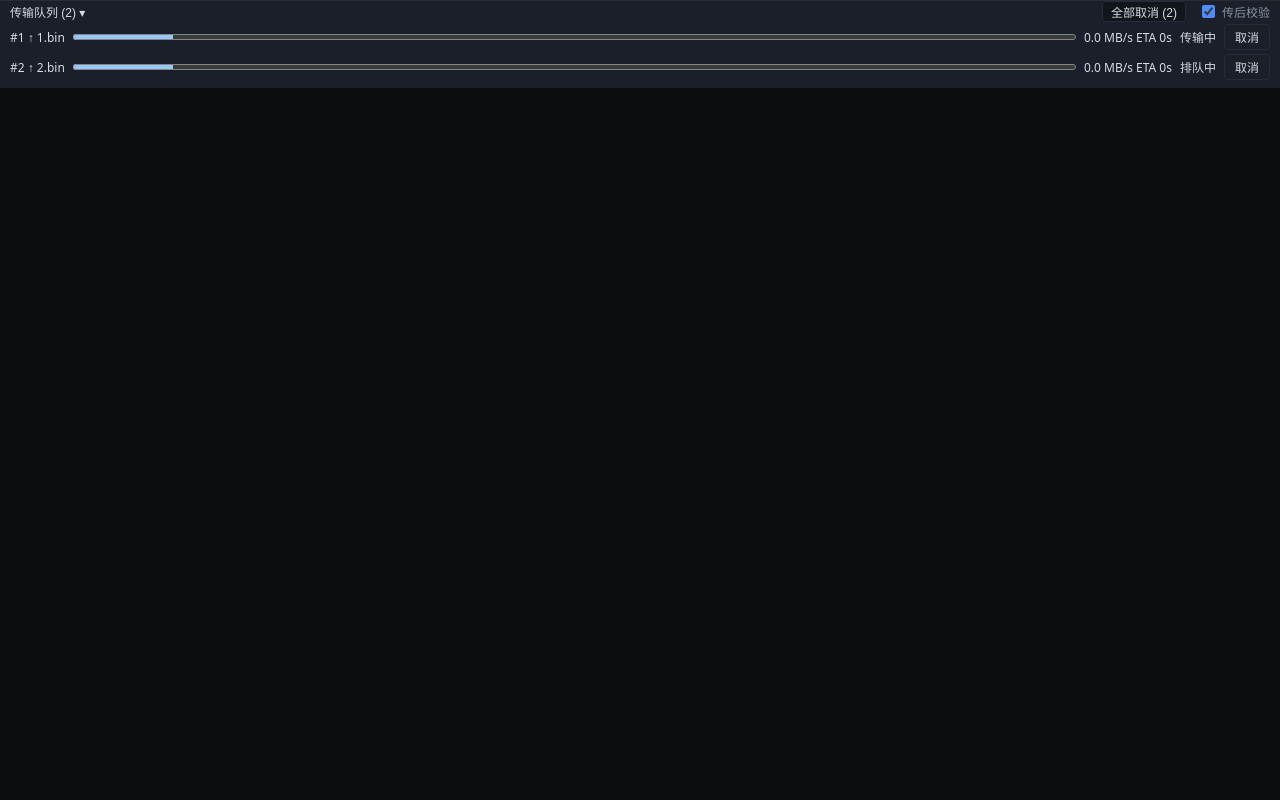
TransferQueueDrawer 全部取消 › 确认文案说明会留下 .fspart 半成品，并在跨会话时报出会话数
Click the button with test id "transfer-cancel-all": (1144,12) [1102,1,1186,22]
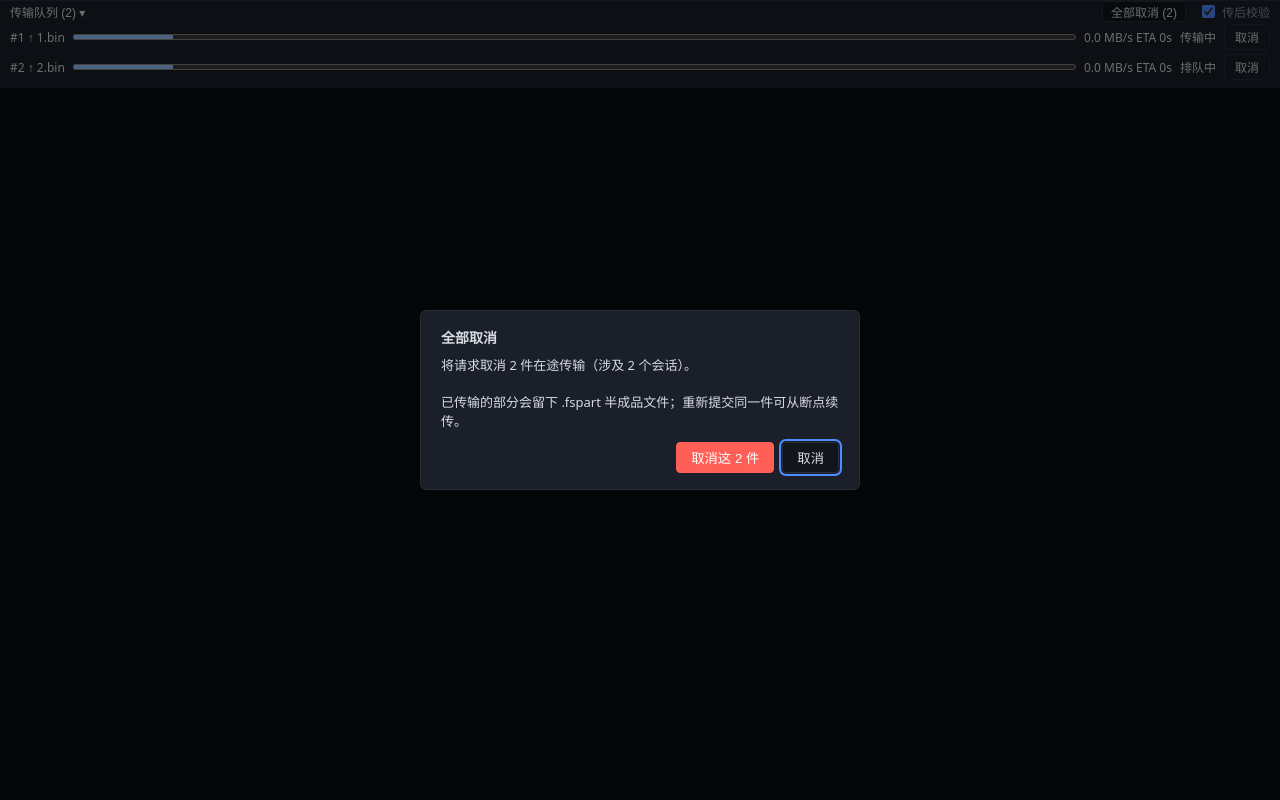
Check: the text with test id "confirm-msg" shows ".fspart", box [441,356,838,430]
Check: the text with test id "confirm-msg" shows "2 个会话", box [441,356,838,430]
